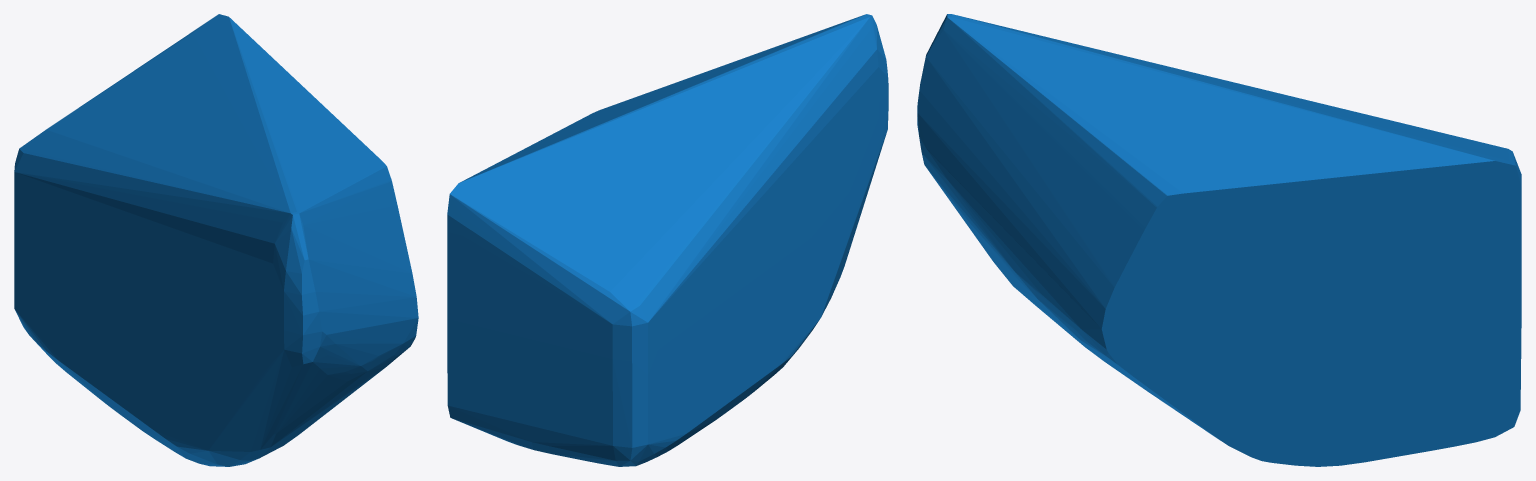
File: right_palm_part_29.obj
The picture shows the model from 3 angles, left to right: view 1: azimuth 30°, elevation 25°; view 2: azimuth 150°, elevation 25°; view 3: azimuth 270°, elevation 25°; orthographic projection. The views are drawn at different scales.
Size of the model in its own units: 6.91 by 10.61 by 16.31.
